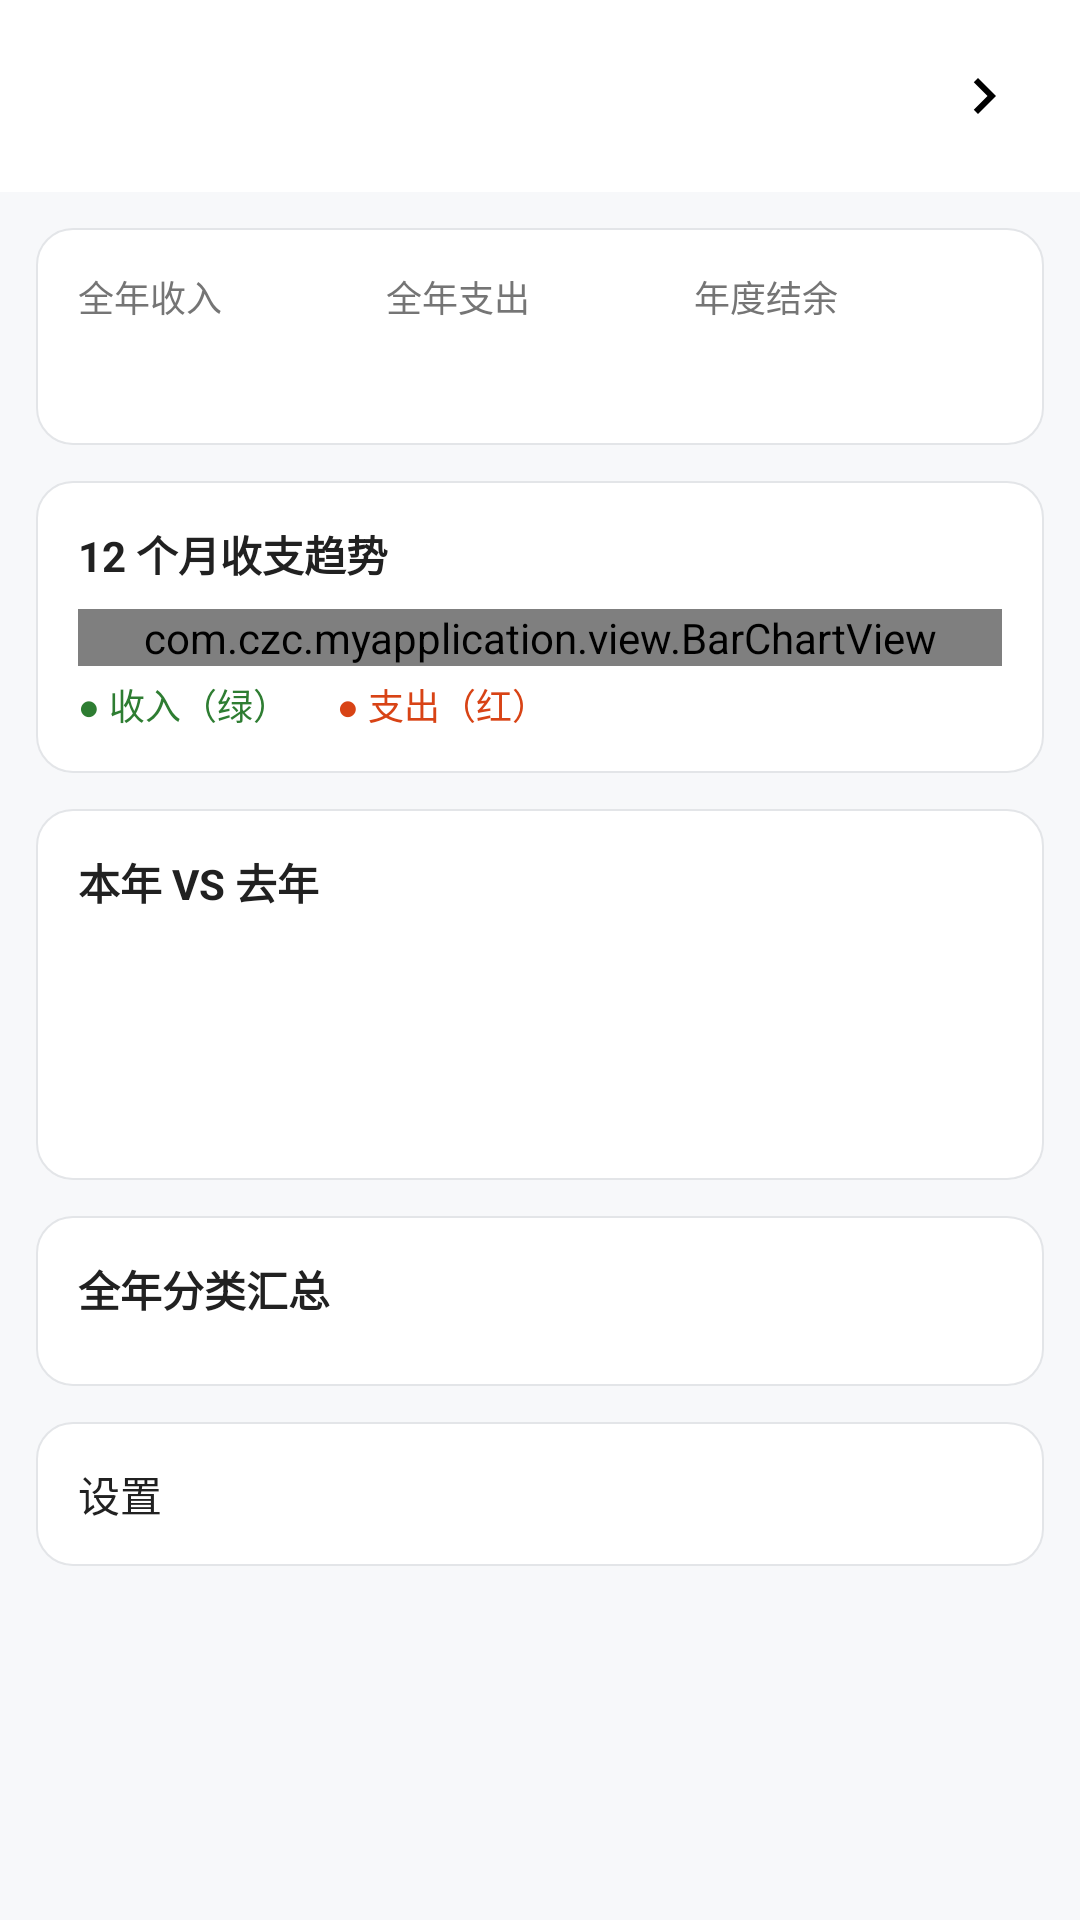

Where to tap for icons on this 1080px x 1920px app screen, as [x,y]:
chevron right: [985,96]
